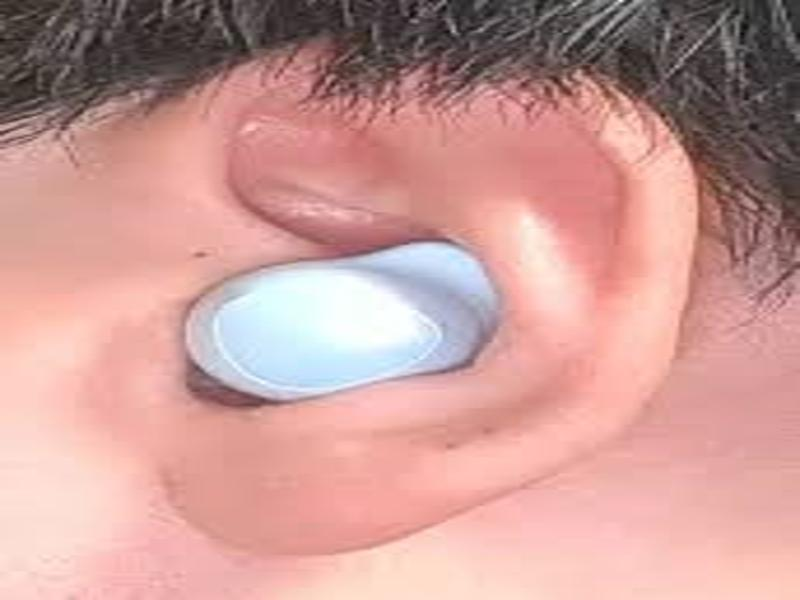headphone: (182, 233, 504, 415)
